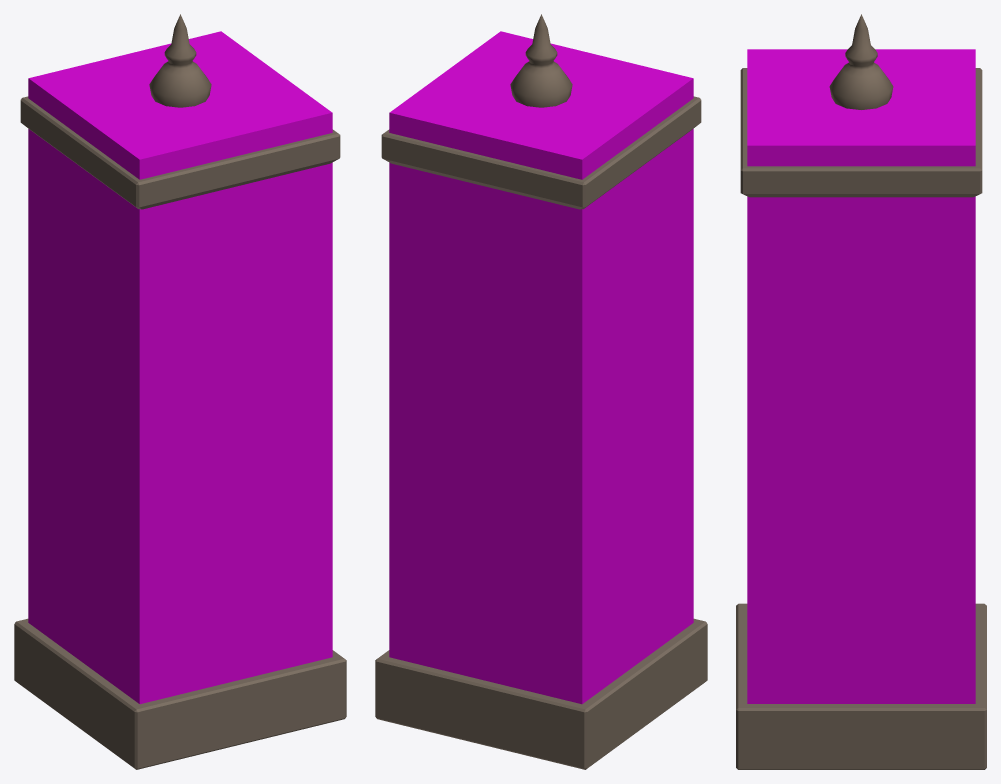
File: ENV_Wall_Post_A.glb
The picture shows the model from 3 angles, left to right: view 1: azimuth 30°, elevation 25°; view 2: azimuth 150°, elevation 25°; view 3: azimuth 270°, elevation 25°; orthographic projection. The views are drawn at different scales.
Parts seen in each view (by area): view 1: COL_Post, ENV_Wall_Post_A_Mesh; view 2: COL_Post, ENV_Wall_Post_A_Mesh; view 3: COL_Post, ENV_Wall_Post_A_Mesh.
Part boxes in pixels (left/top/right/bottom): COL_Post: left=28, top=31, right=332, bottom=704; ENV_Wall_Post_A_Mesh: left=14, top=14, right=346, bottom=769; COL_Post: left=389, top=31, right=693, bottom=704; ENV_Wall_Post_A_Mesh: left=375, top=14, right=707, bottom=769; COL_Post: left=747, top=49, right=975, bottom=703; ENV_Wall_Post_A_Mesh: left=736, top=14, right=986, bottom=769.
Size of the model in its own units: 1.1 by 3.4 by 1.1.
